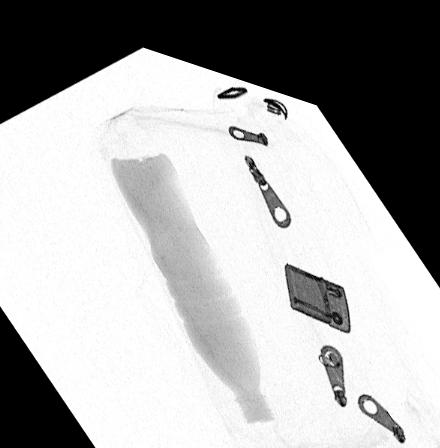Lighter: (283, 244, 349, 311)
